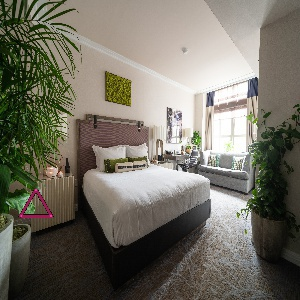triangle: (17, 186, 56, 222)
